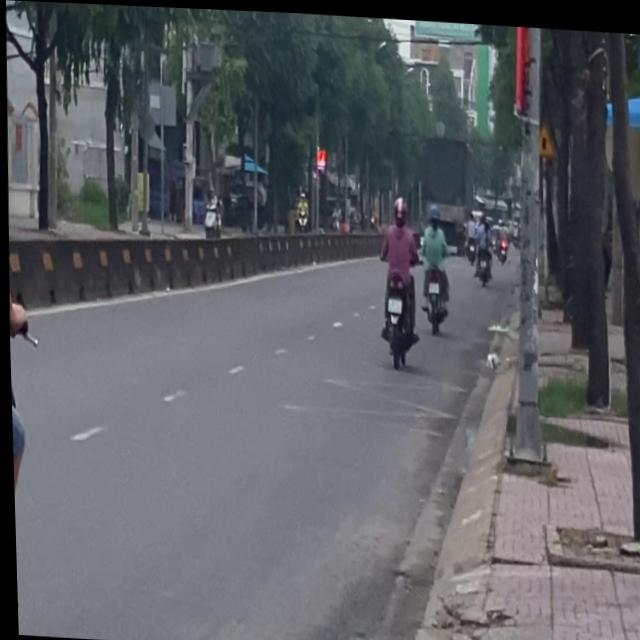licenseplate: (2, 84, 39, 635)
